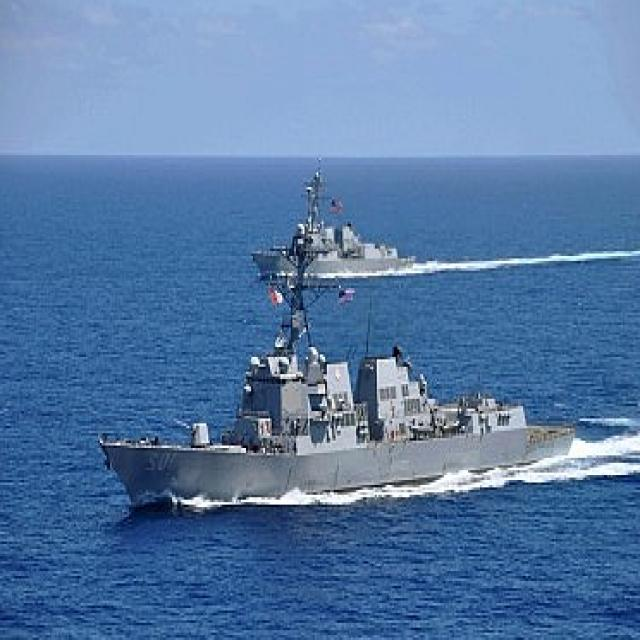navalvessels: (93, 304, 599, 521), (265, 192, 425, 287)
